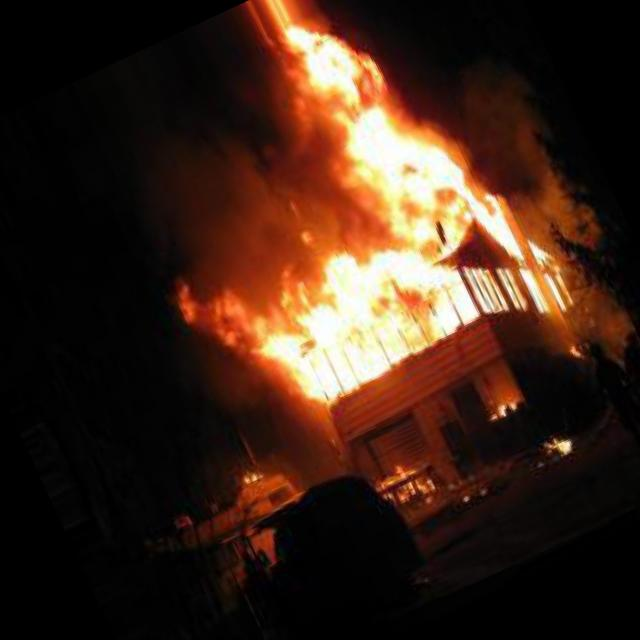fire: (134, 54, 576, 464), (368, 445, 446, 520), (475, 382, 531, 436), (535, 423, 589, 476), (238, 462, 268, 496)
